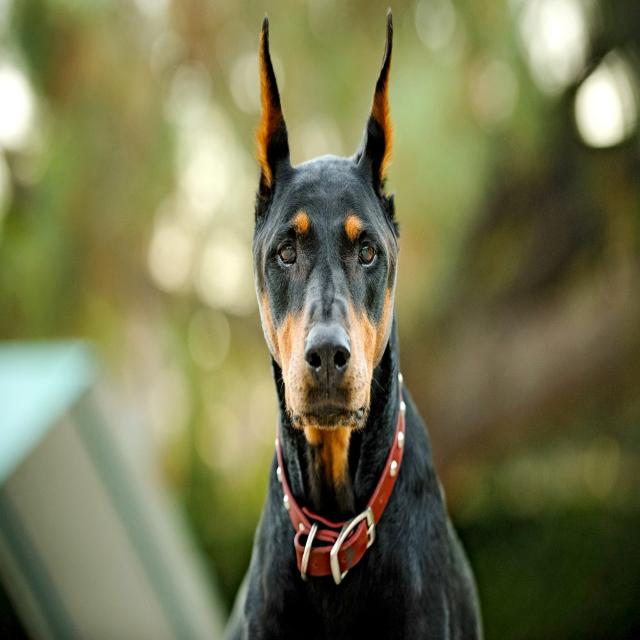dog: (226, 11, 482, 640)
